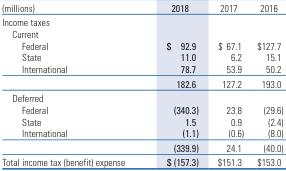table: (1, 0, 282, 167)
table column: (1, 0, 145, 167), (145, 0, 207, 167), (207, 0, 249, 167), (249, 0, 282, 167)
table column header: (1, 0, 282, 14)
table projected row header: (1, 14, 282, 27), (1, 90, 282, 103), (1, 27, 282, 39)
table row: (1, 75, 282, 90), (1, 139, 282, 154), (1, 0, 282, 14), (1, 14, 282, 27), (1, 62, 282, 75), (1, 90, 282, 103), (1, 126, 282, 139), (1, 154, 282, 167), (1, 27, 282, 39), (1, 50, 282, 62), (1, 103, 282, 115), (1, 39, 282, 50), (1, 115, 282, 126)
